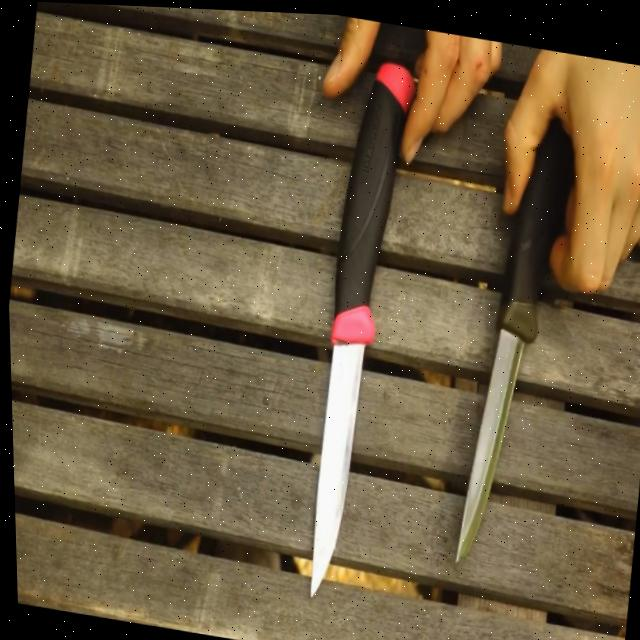knife: (285, 42, 433, 609), (438, 95, 591, 581)
